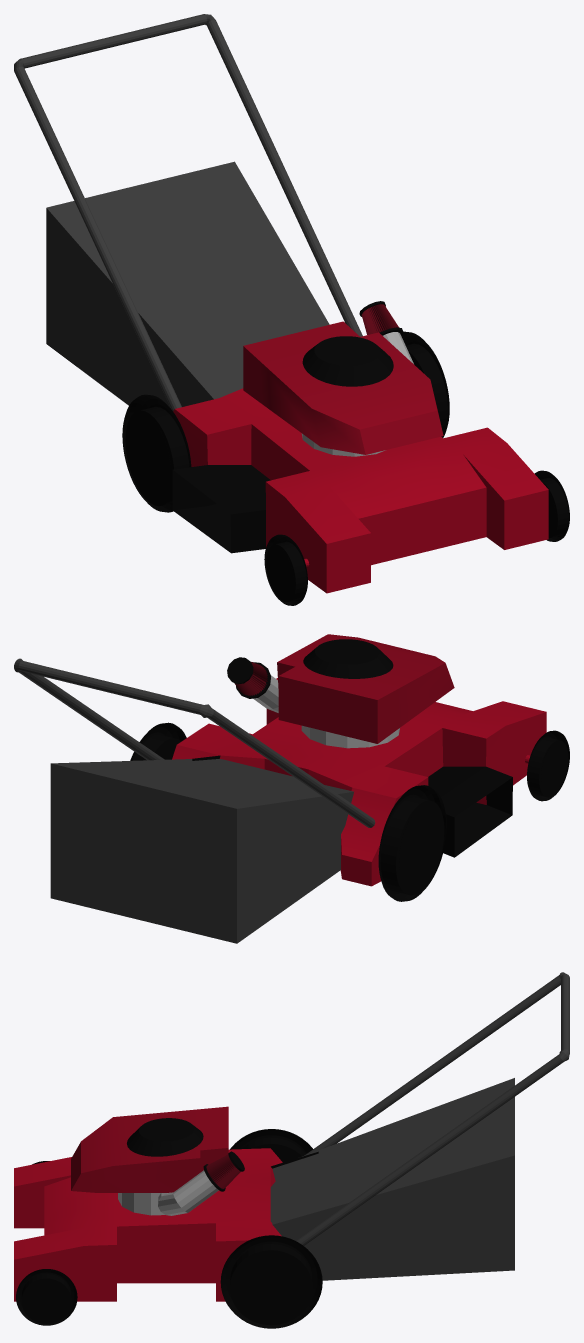
Rendered from lawnmower.fbx.
3 renders of one model, top to bottom at view 1: azimuth 30°, elevation 25°; view 2: azimuth 150°, elevation 25°; view 3: azimuth 270°, elevation 25°, orthographic. The views are drawn at different scales.
Parts seen in each view (by area): view 1: mowerbag, mowerbody, enginecover, handles, output, wheelbackr, enginehead, wheelfrontr, wheelbackl, wheelfrontl, airintake; view 2: mowerbag, mowerbody, enginecover, handles, wheelbackr, output, enginehead, wheelfrontr, wheelbackl, engineblock, airintakecap, airintake (+1 smaller); view 3: mowerbag, mowerbody, enginecover, wheelbackl, handles, wheelfrontl, enginehead, wheelbackr, airintakepipe, engineblock, airintake.
Part boxes in pixels (bbox=[...]): mowerbag: bbox=[46, 161, 329, 408]; mowerbody: bbox=[173, 388, 548, 593]; enginecover: bbox=[243, 321, 443, 454]; handles: bbox=[14, 14, 362, 411]; output: bbox=[172, 465, 270, 553]; wheelbackr: bbox=[122, 394, 191, 512]; enginehead: bbox=[302, 336, 393, 386]; wheelfrontr: bbox=[264, 534, 307, 605]; wheelbackl: bbox=[402, 331, 449, 437]; wheelfrontl: bbox=[534, 470, 569, 541]; airintake: bbox=[361, 304, 398, 334]; mowerbag: bbox=[50, 759, 353, 943]; mowerbody: bbox=[172, 678, 546, 886]; enginecover: bbox=[277, 634, 454, 743]; handles: bbox=[14, 658, 375, 827]; wheelbackr: bbox=[378, 785, 446, 901]; output: bbox=[428, 766, 512, 857]; enginehead: bbox=[303, 639, 393, 678]; wheelfrontr: bbox=[527, 730, 569, 801]; wheelbackl: bbox=[130, 722, 186, 760]; engineblock: bbox=[301, 725, 399, 748]; airintakecap: bbox=[227, 657, 270, 698]; airintake: bbox=[234, 662, 267, 695]; mowerbag: bbox=[270, 1078, 514, 1280]; mowerbody: bbox=[14, 1148, 282, 1301]; enginecover: bbox=[71, 1106, 228, 1192]; wheelbackl: bbox=[220, 1235, 322, 1328]; handles: bbox=[296, 972, 569, 1245]; wheelfrontl: bbox=[16, 1269, 77, 1325]; enginehead: bbox=[127, 1118, 203, 1156]; wheelbackr: bbox=[230, 1129, 312, 1162]; airintakepipe: bbox=[158, 1170, 218, 1215]; engineblock: bbox=[118, 1193, 164, 1215]; airintake: bbox=[206, 1154, 240, 1188].
Size of the model in its own units: 148 by 157 by 300.
